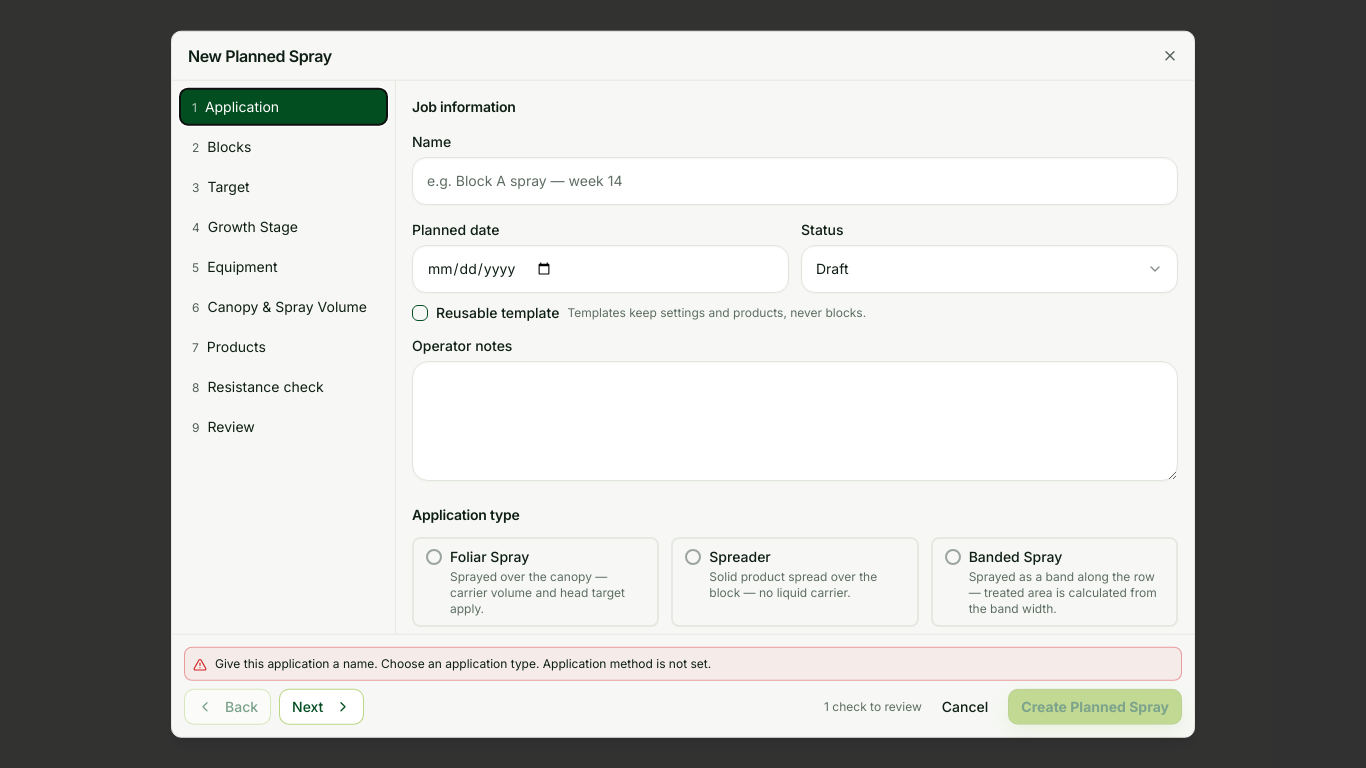
it: Stage 3B wizard shell › hides the Carrier step for a spreader application
Expected: the field labelled "Name" is shown, [412, 157, 1178, 205]
Click the text "Spreader".
click(740, 556)  # box [709, 548, 771, 565]
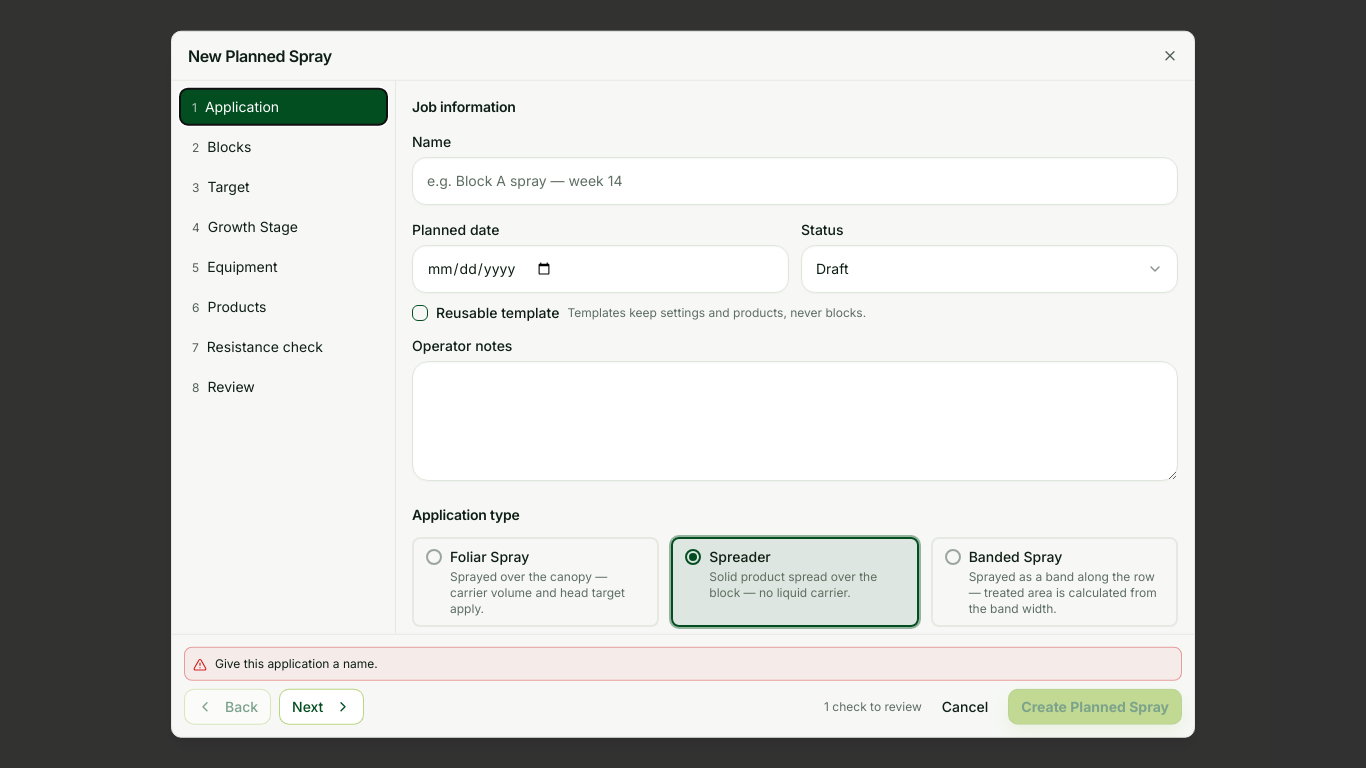
Now the button "6Canopy & Spray Volume" is gone
